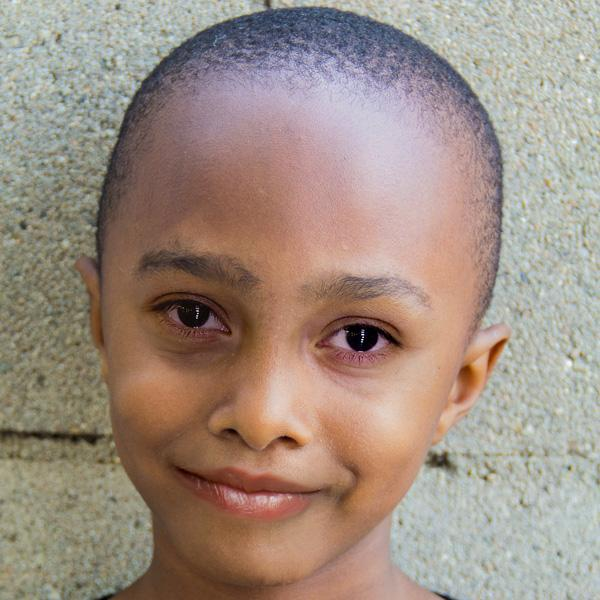Eyes: (135, 275, 243, 353), (308, 302, 409, 377)
